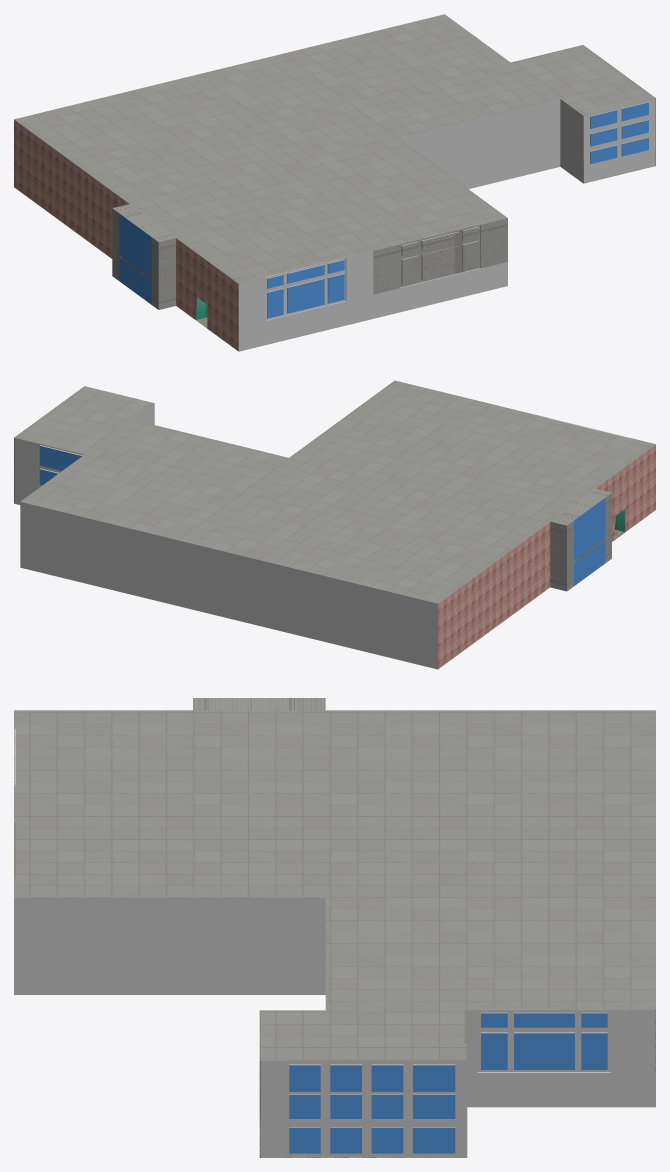
The model's file is ComedorTerminadook.fbx.
3 views of the same model, one above another, from view 1: azimuth 30°, elevation 25°; view 2: azimuth 150°, elevation 25°; view 3: azimuth 270°, elevation 25° (orthographic). The views are drawn at different scales.
Visible parts, largest first — view 1: Techo, Cube; view 2: Techo, Cube; view 3: Techo, Cube.
Part boxes in pixels (box(x1,y1,x2,y2)): Techo: box(14, 14, 654, 283); Cube: box(14, 26, 655, 351); Techo: box(15, 380, 655, 603); Cube: box(14, 386, 655, 669); Techo: box(14, 698, 655, 1060); Cube: box(14, 729, 655, 1157).
Size of the model in its own units: 4814 by 600 by 3600.
